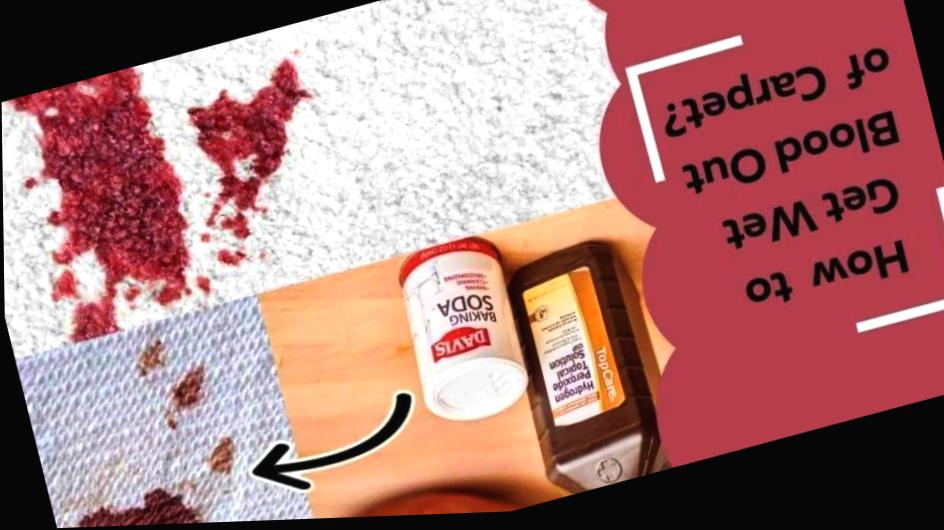Fire: (6, 67, 192, 344), (186, 63, 313, 214), (77, 490, 199, 528), (170, 363, 206, 409), (207, 440, 233, 478)
